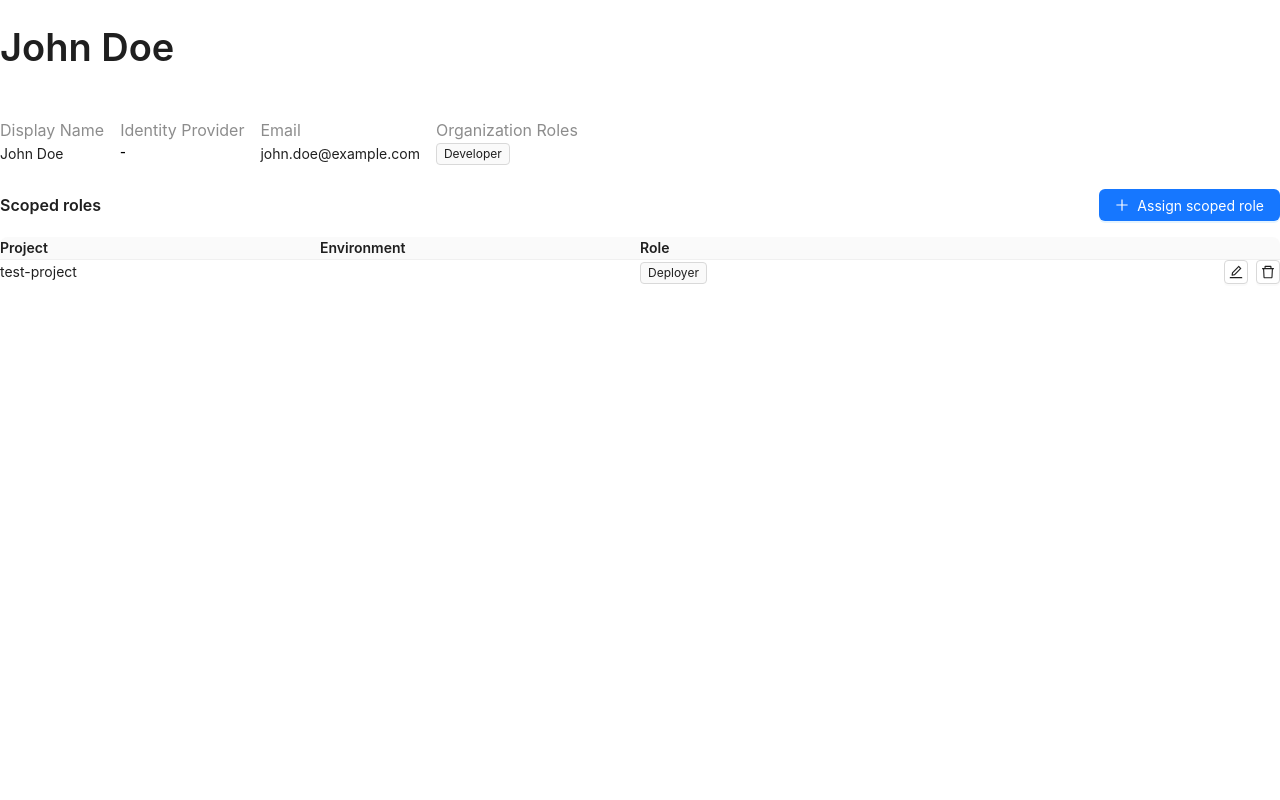
MembershipDetails › Scoped roles table permissions › should allow admin user to delete scoped roles for another user
Expected: the heading "Scoped roles" is shown, [0,193,101,217]
Expected: the link "test-project" is shown, [0,263,77,280]
Note: Click delete button
Click the button named "Remove scoped role". click: (1268, 272)
box: [1256,260,1279,284]
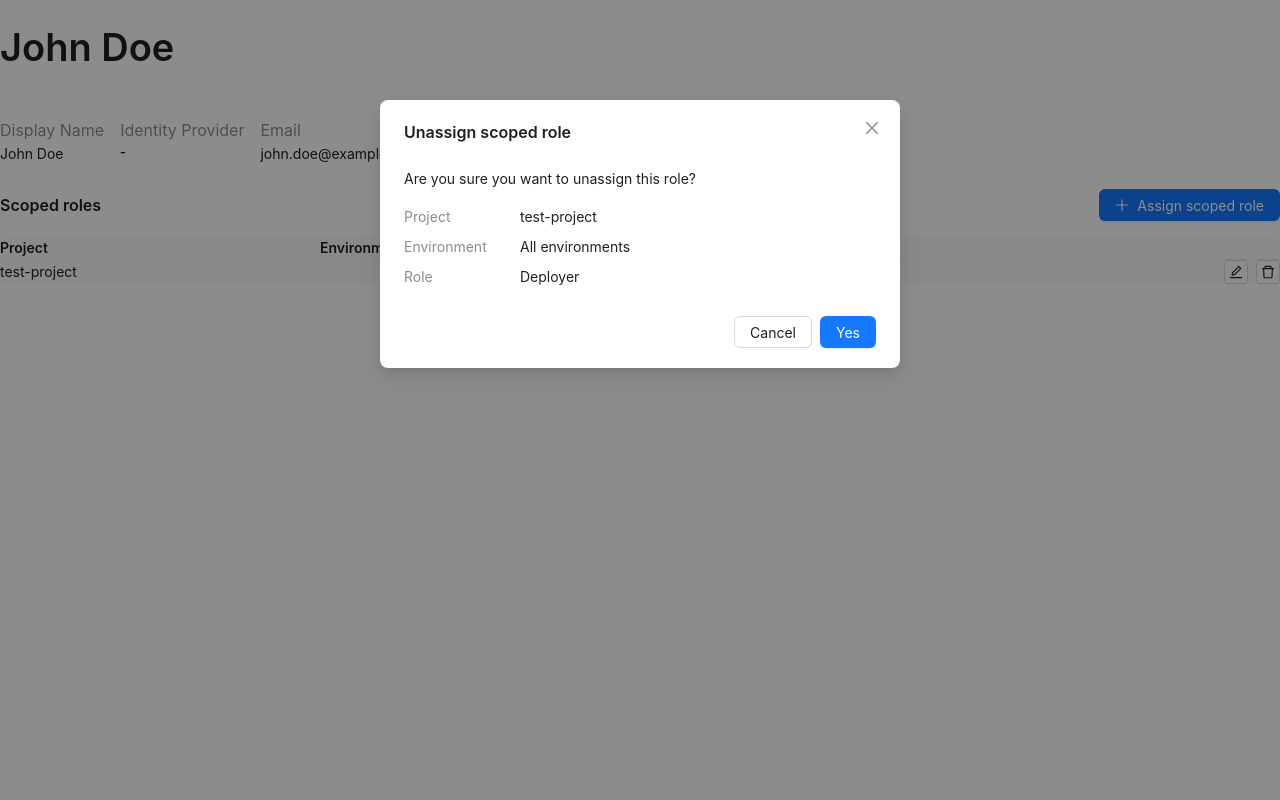
Expected: the text "Are you sure you want to unassign this role?" is shown, [404,170,696,187]
Expected: the dialog is shown, [380,100,900,392]
Expected: the text "test-project" is shown, [520,206,597,228]
Note: Confirm deletion
Click the button "Yes". click: (848, 332)
box: [820,316,876,348]
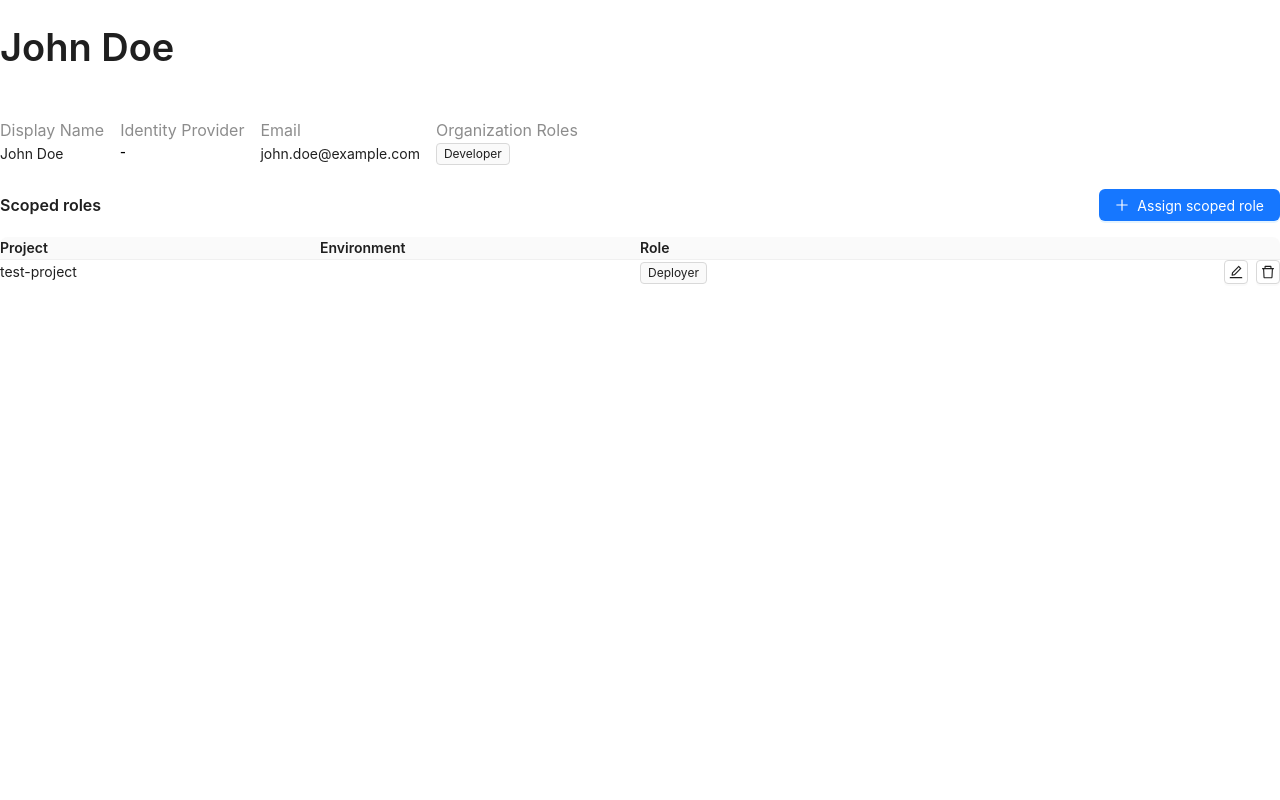
Expected: the text "Are you sure you want to unassign this role?" is gone
